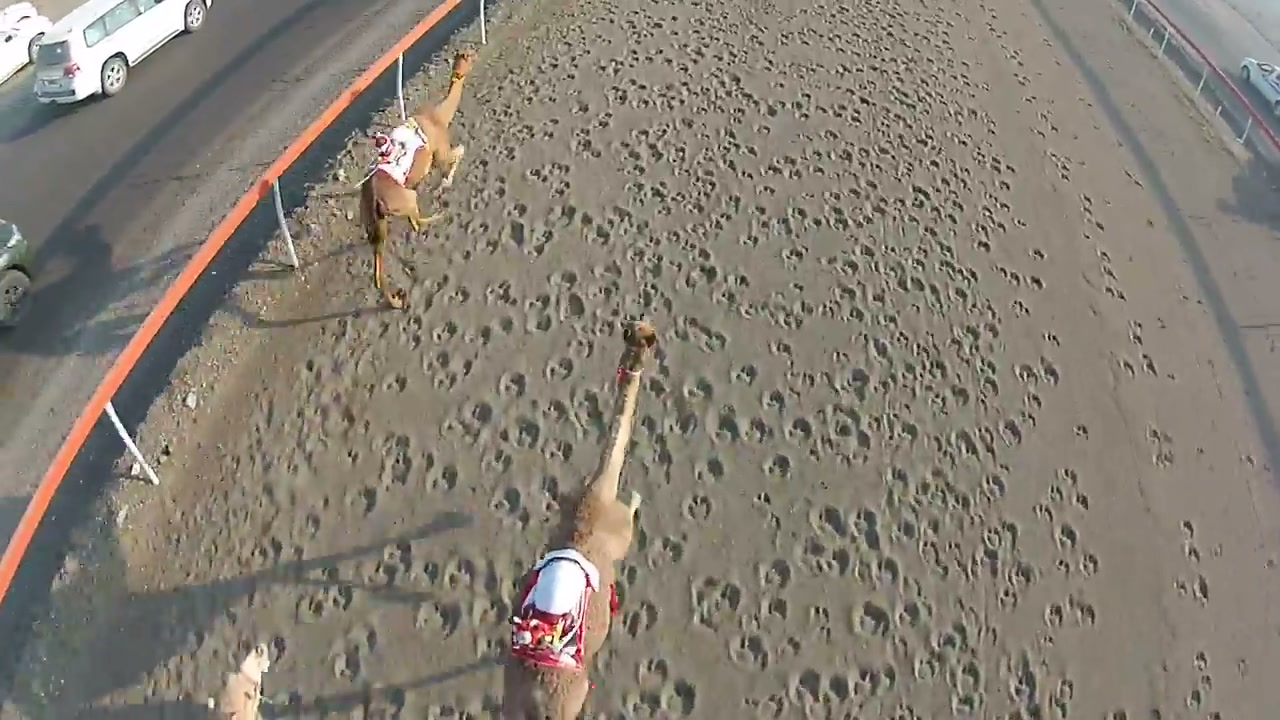animal_footprint: (18, 0, 1269, 719)
